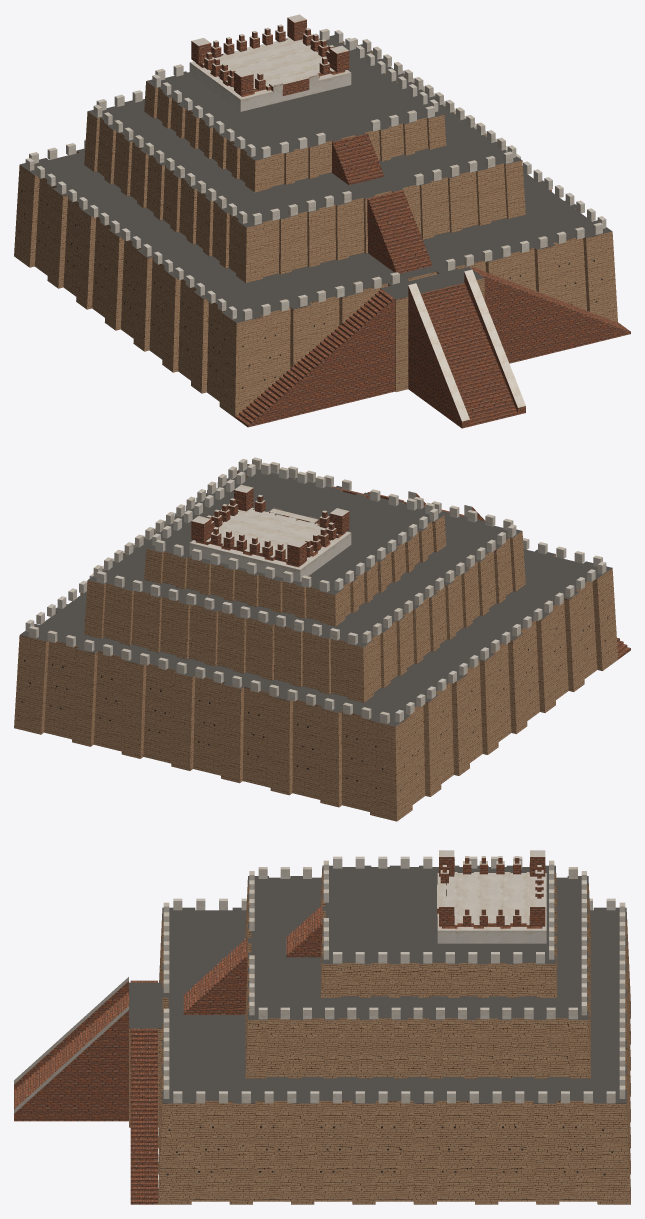
File: ziggurat_nippur.glb
The picture shows the model from 3 angles, top to bottom: view 1: azimuth 30°, elevation 25°; view 2: azimuth 150°, elevation 25°; view 3: azimuth 270°, elevation 25°; orthographic projection. The views are drawn at different scales.
Visible parts, largest first — view 1: ziggurat_nippur; view 2: ziggurat_nippur; view 3: ziggurat_nippur.
Boxes of the visible parts, x1=… form: ziggurat_nippur: x1=14, y1=14, x2=630, y2=428; ziggurat_nippur: x1=14, y1=457, x2=630, y2=821; ziggurat_nippur: x1=14, y1=850, x2=630, y2=1204.
Size of the model in its own units: 52 by 27.4 by 67.84.
5 materials, 3 textured.
